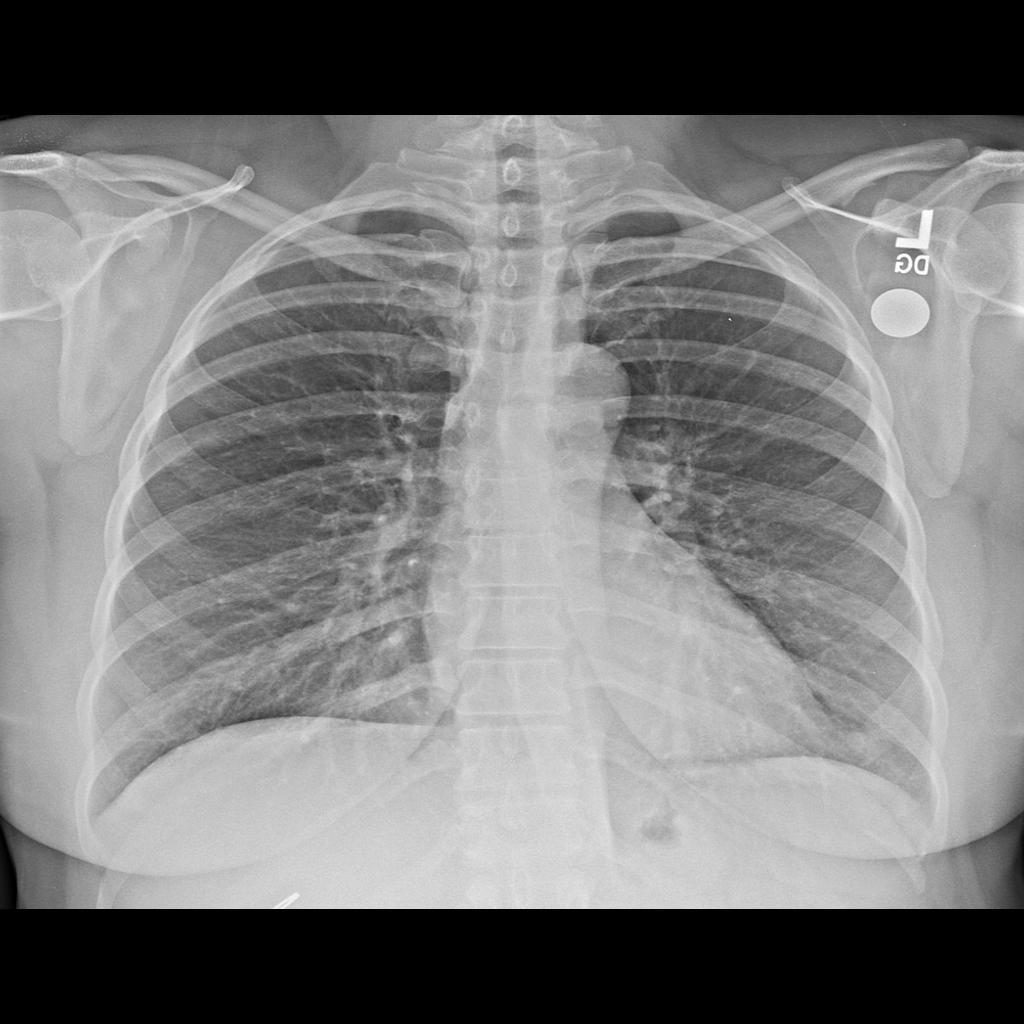Nodule: (845, 733, 895, 769)
